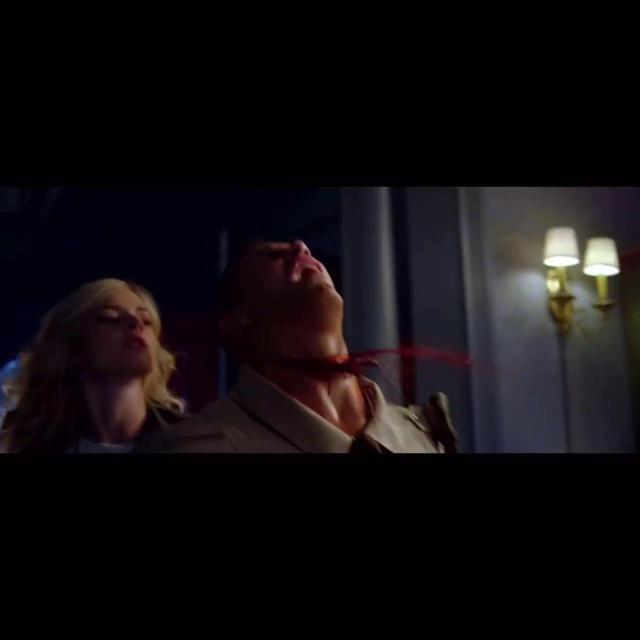blood: (278, 350, 476, 420)
